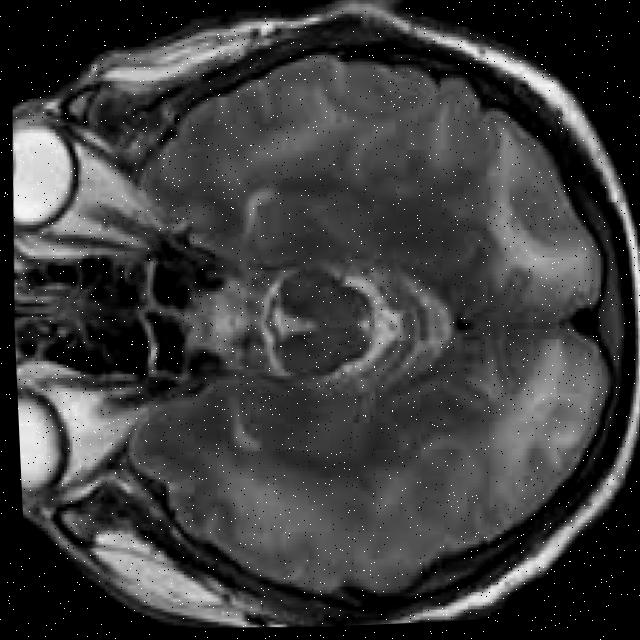NoTumor: (103, 0, 640, 635)
